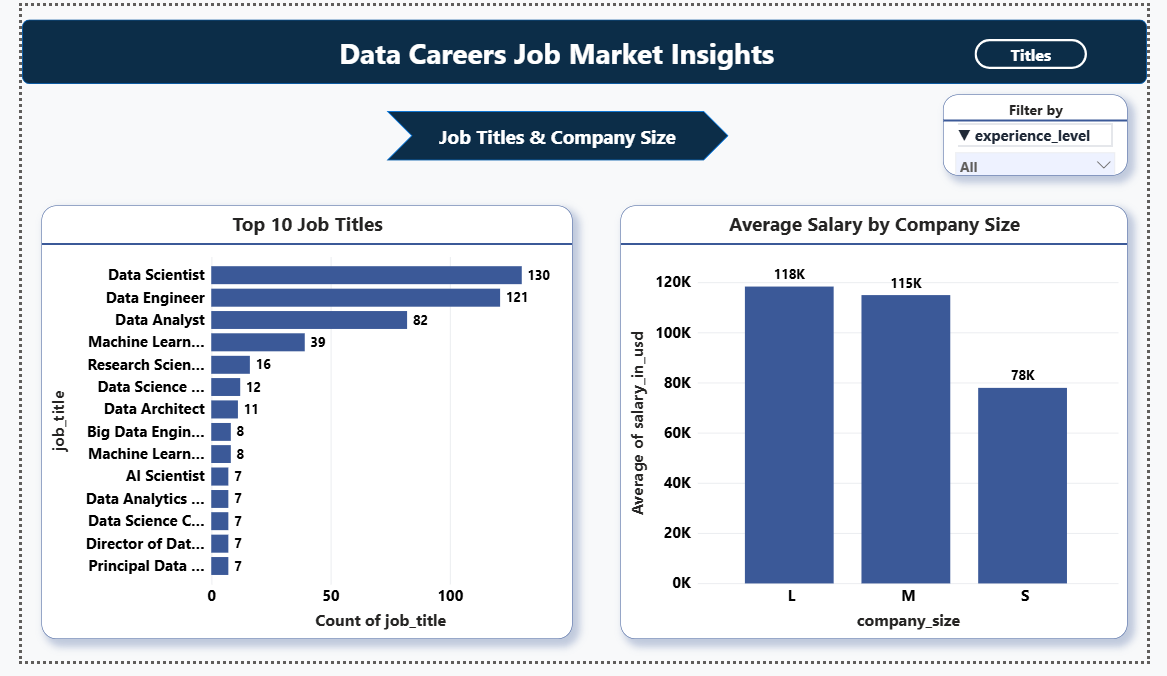

This screenshot's page, from the dashboard's own definition file:
{"tool":"powerbi","page":{"name":"Job Titles & Company Size","canvas":[1500,873],"ordinal":3},"visuals":[{"type":"shape","box":[0,18,1500,86],"z":0},{"type":"textbox","box":[380,32,666,72],"z":1000},{"type":"actionButton","box":[1270,44,150,40],"z":2000},{"type":"slicer","title":"Filter by","fields":{"Values":["job_market salaries.experience_level"]},"box":[1228,118,246,108],"z":3000},{"type":"clusteredBarChart","title":"Top 10 Job Titles","fields":{"Category":["job_market salaries.job_title"],"Y":["CountNonNull(job_market salaries.job_title)"]},"box":[26,266,708,578],"z":4000},{"type":"shape","box":[486,140,456,66],"z":5000},{"type":"clusteredColumnChart","title":"Average Salary by Company Size","fields":{"Y":["Avg(job_market salaries.salary_in_usd)"],"Category":["job_market salaries.company_size"]},"box":[798,266,676,578],"z":6000}]}

Visuals, with their boxes in screenshot pixels (x1, y1, x2, y2), scaled from the page's 1500x873 canvas onto the 1167x676 screenshot:
shape: [left=0, top=14, right=1166, bottom=81]
textbox: [left=296, top=25, right=814, bottom=81]
actionButton: [left=988, top=34, right=1105, bottom=65]
"Filter by" slicer: [left=955, top=91, right=1147, bottom=175]
"Top 10 Job Titles" clusteredBarChart: [left=20, top=206, right=571, bottom=654]
shape: [left=378, top=108, right=733, bottom=160]
"Average Salary by Company Size" clusteredColumnChart: [left=621, top=206, right=1147, bottom=654]
